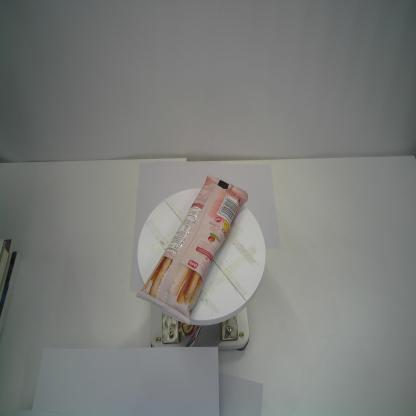Dessert: (134, 172, 250, 328)
